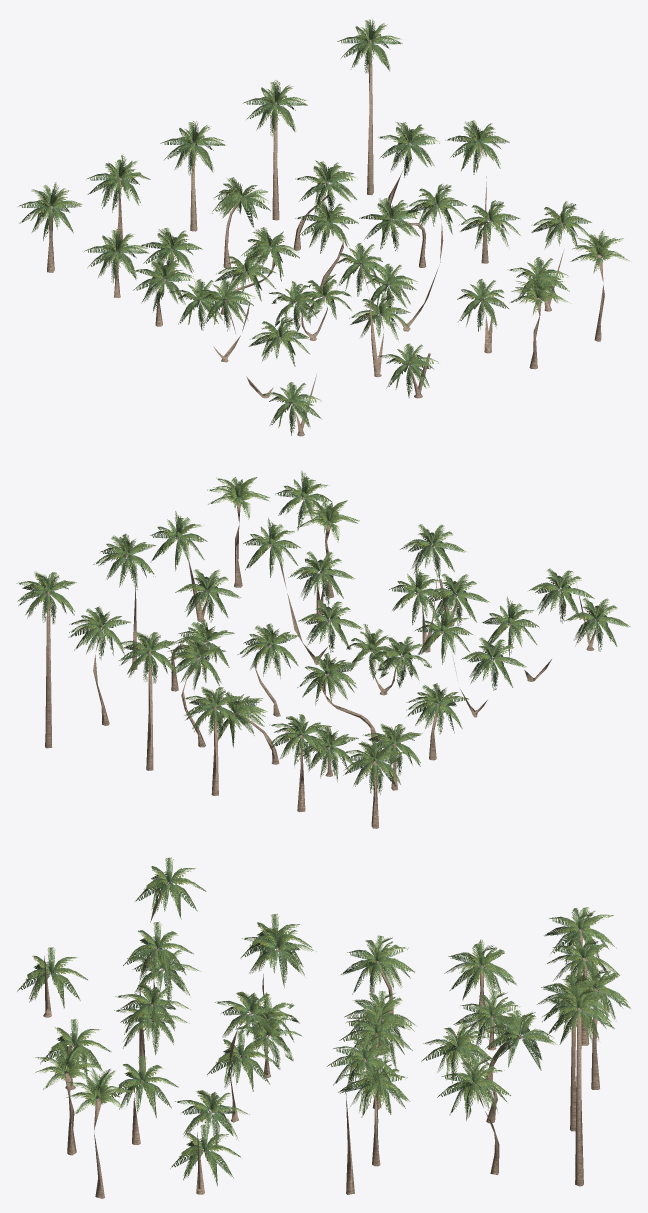
File: palm.glb
The picture shows the model from 3 angles, top to bottom: view 1: azimuth 30°, elevation 25°; view 2: azimuth 150°, elevation 25°; view 3: azimuth 270°, elevation 25°; orthographic projection. The views are drawn at different scales.
Visible parts, largest first — view 1: M_Palm_P2_20, M_Palm_P2_21, M_Palm_P2_19, M_Palm_P2_18, M_Palm_P2_16, M_Palm_P2_22, M_Palm_P2_5, M_Palm_P2_17, M_Palm_P2_4, M_Palm_P2_3, M_Palm_P2_1, M_Palm_P2_9 (+14 smaller); view 2: M_Palm_P2_18, M_Palm_P2_20, M_Palm_P2_21, M_Palm_P2_22, M_Palm_P2_16, M_Palm_P2_19, M_Palm_P2_17, M_Palm_P2_5, M_Palm_P2_4, M_Palm_P2_1, M_Palm_P2_2, M_Palm_P2_3 (+14 smaller); view 3: M_Palm_P2_18, M_Palm_P2_21, M_Palm_P2_22, M_Palm_P2_5, M_Palm_P2_20, M_Palm_P2_19, M_Palm_P2_15, M_Palm_P2_10, M_Palm_P2_16, M_Palm_P2_11, M_Palm_P2_8, M_Palm_P2_14 (+14 smaller).
Boxes of the visible parts, x1,y1,x2,y2 form: M_Palm_P2_20: (336, 243, 410, 377); M_Palm_P2_21: (457, 200, 520, 353); M_Palm_P2_19: (194, 279, 310, 398); M_Palm_P2_18: (359, 184, 467, 331); M_Palm_P2_16: (168, 251, 275, 362); M_Palm_P2_22: (508, 201, 591, 311); M_Palm_P2_5: (337, 19, 402, 195); M_Palm_P2_17: (269, 274, 351, 340); M_Palm_P2_4: (243, 80, 307, 220); M_Palm_P2_3: (160, 121, 225, 231); M_Palm_P2_1: (18, 182, 82, 272); M_Palm_P2_9: (293, 160, 357, 250); M_Palm_P2_18: (243, 517, 363, 664); M_Palm_P2_20: (389, 524, 466, 652); M_Palm_P2_21: (275, 470, 355, 623); M_Palm_P2_22: (150, 511, 241, 622); M_Palm_P2_16: (415, 604, 526, 717); M_Palm_P2_19: (482, 568, 594, 681); M_Palm_P2_17: (346, 624, 431, 695); M_Palm_P2_5: (16, 571, 76, 748); M_Palm_P2_4: (118, 631, 177, 770); M_Palm_P2_1: (343, 739, 405, 828); M_Palm_P2_2: (268, 714, 331, 812); M_Palm_P2_3: (183, 686, 242, 795); M_Palm_P2_18: (207, 991, 289, 1122); M_Palm_P2_21: (110, 983, 190, 1144); M_Palm_P2_22: (170, 1090, 249, 1194); M_Palm_P2_5: (542, 983, 614, 1186); M_Palm_P2_20: (114, 921, 193, 1082); M_Palm_P2_19: (127, 857, 206, 1005); M_Palm_P2_15: (327, 1033, 399, 1194); M_Palm_P2_10: (437, 1057, 510, 1174); M_Palm_P2_16: (240, 913, 316, 1018); M_Palm_P2_11: (341, 935, 414, 1014); M_Palm_P2_8: (484, 1010, 557, 1081); M_Palm_P2_14: (338, 1057, 410, 1166).
Bounding box in the file's own units: 110 × 43.42 × 123.
Materials: 4 (2 with a texture image).
